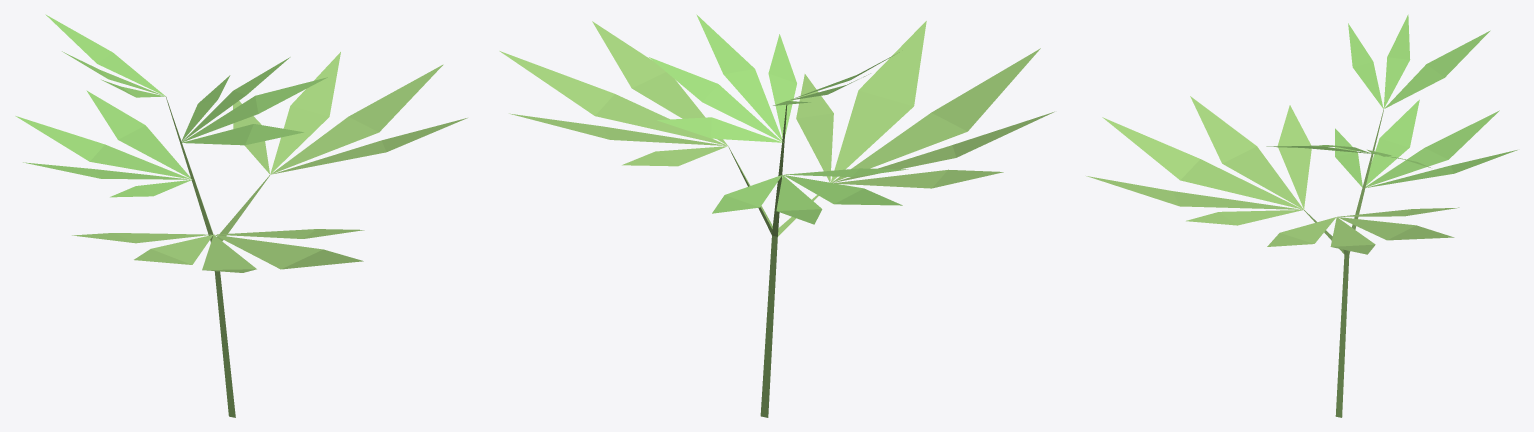
Rendered from Plant_i_OneS_08.fbx.
3 renders of one model, left to right at view 1: azimuth 30°, elevation 25°; view 2: azimuth 150°, elevation 25°; view 3: azimuth 270°, elevation 25°, orthographic. The views are drawn at different scales.
Parts seen in each view (by area): view 1: Plant_i_OneS_08; view 2: Plant_i_OneS_08; view 3: Plant_i_OneS_08.
Boxes of the visible parts, <box> form: Plant_i_OneS_08: <box>15,14,467,417</box>; Plant_i_OneS_08: <box>499,14,1054,417</box>; Plant_i_OneS_08: <box>1086,14,1517,417</box>.
Size of the model in its own units: 82.71 by 70.73 by 81.52.
